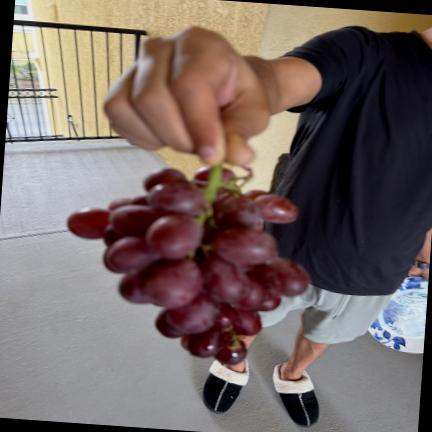grape_cluster: (67, 165, 309, 367)
